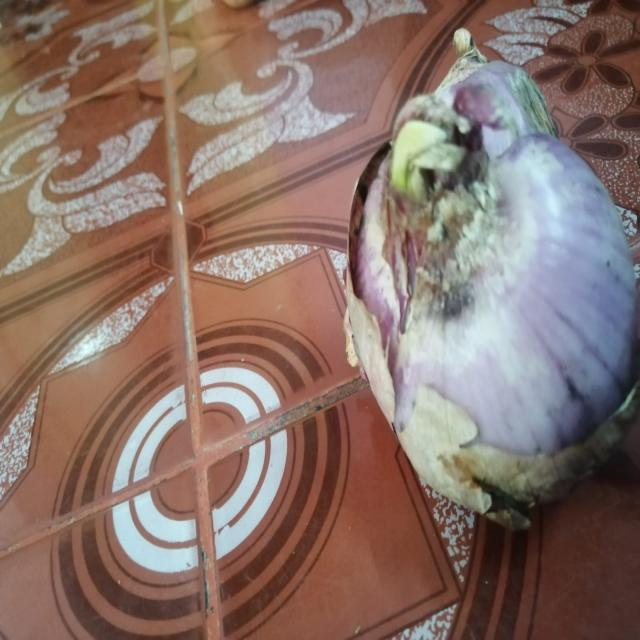sprouting: (390, 132, 466, 196)
